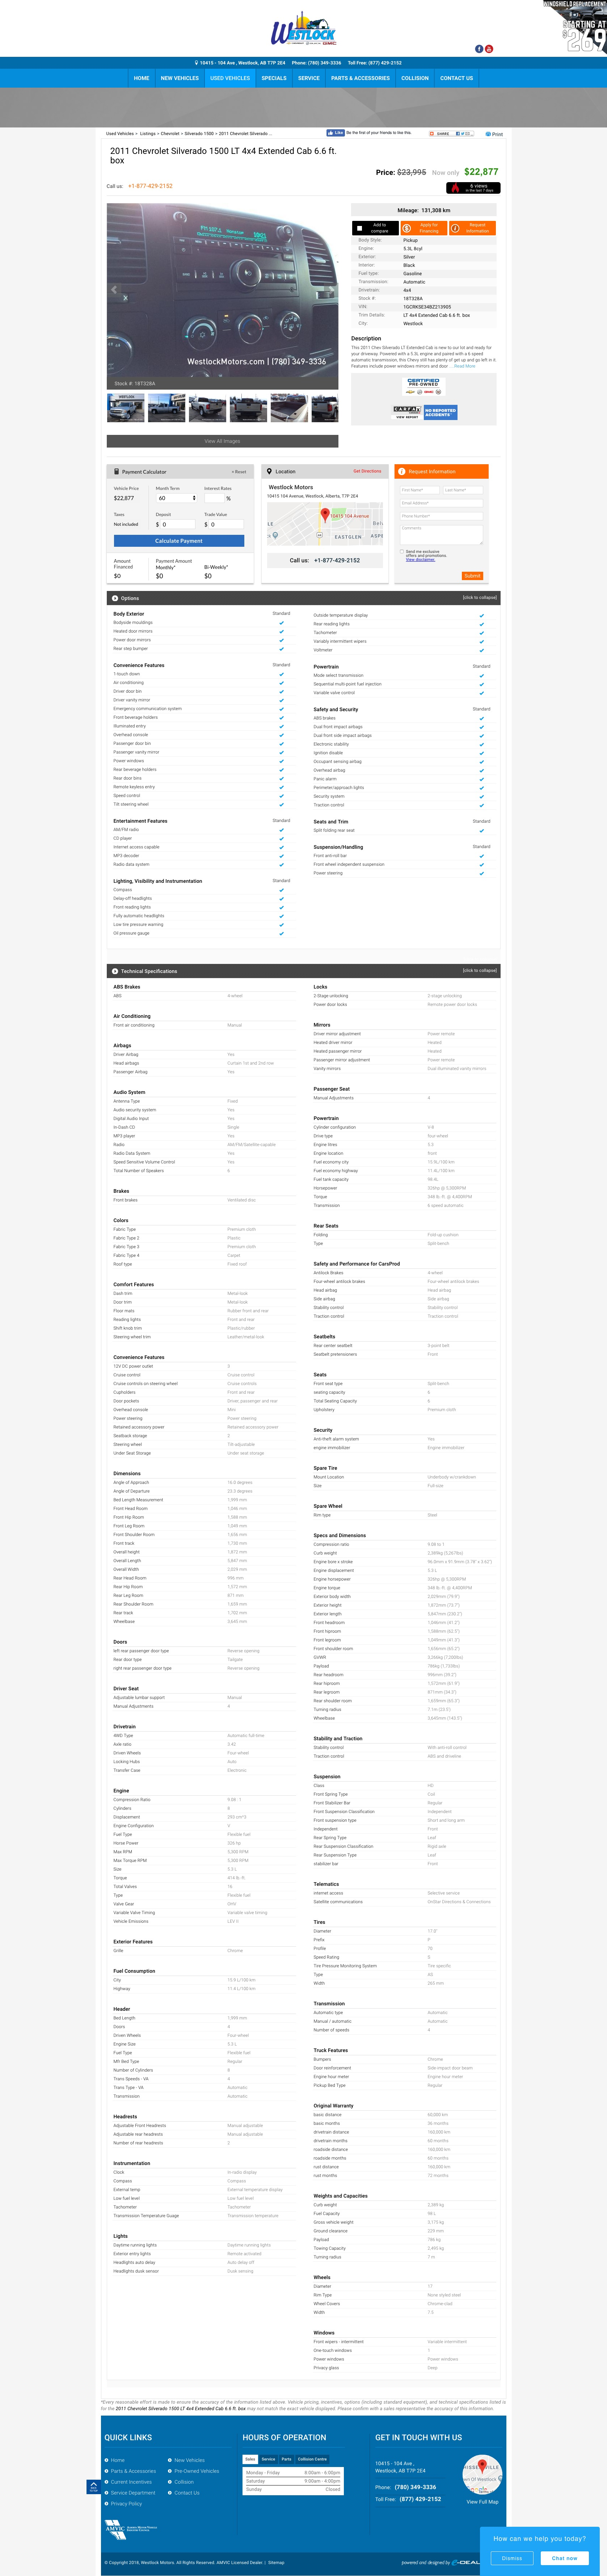car: (323, 281, 340, 299)
